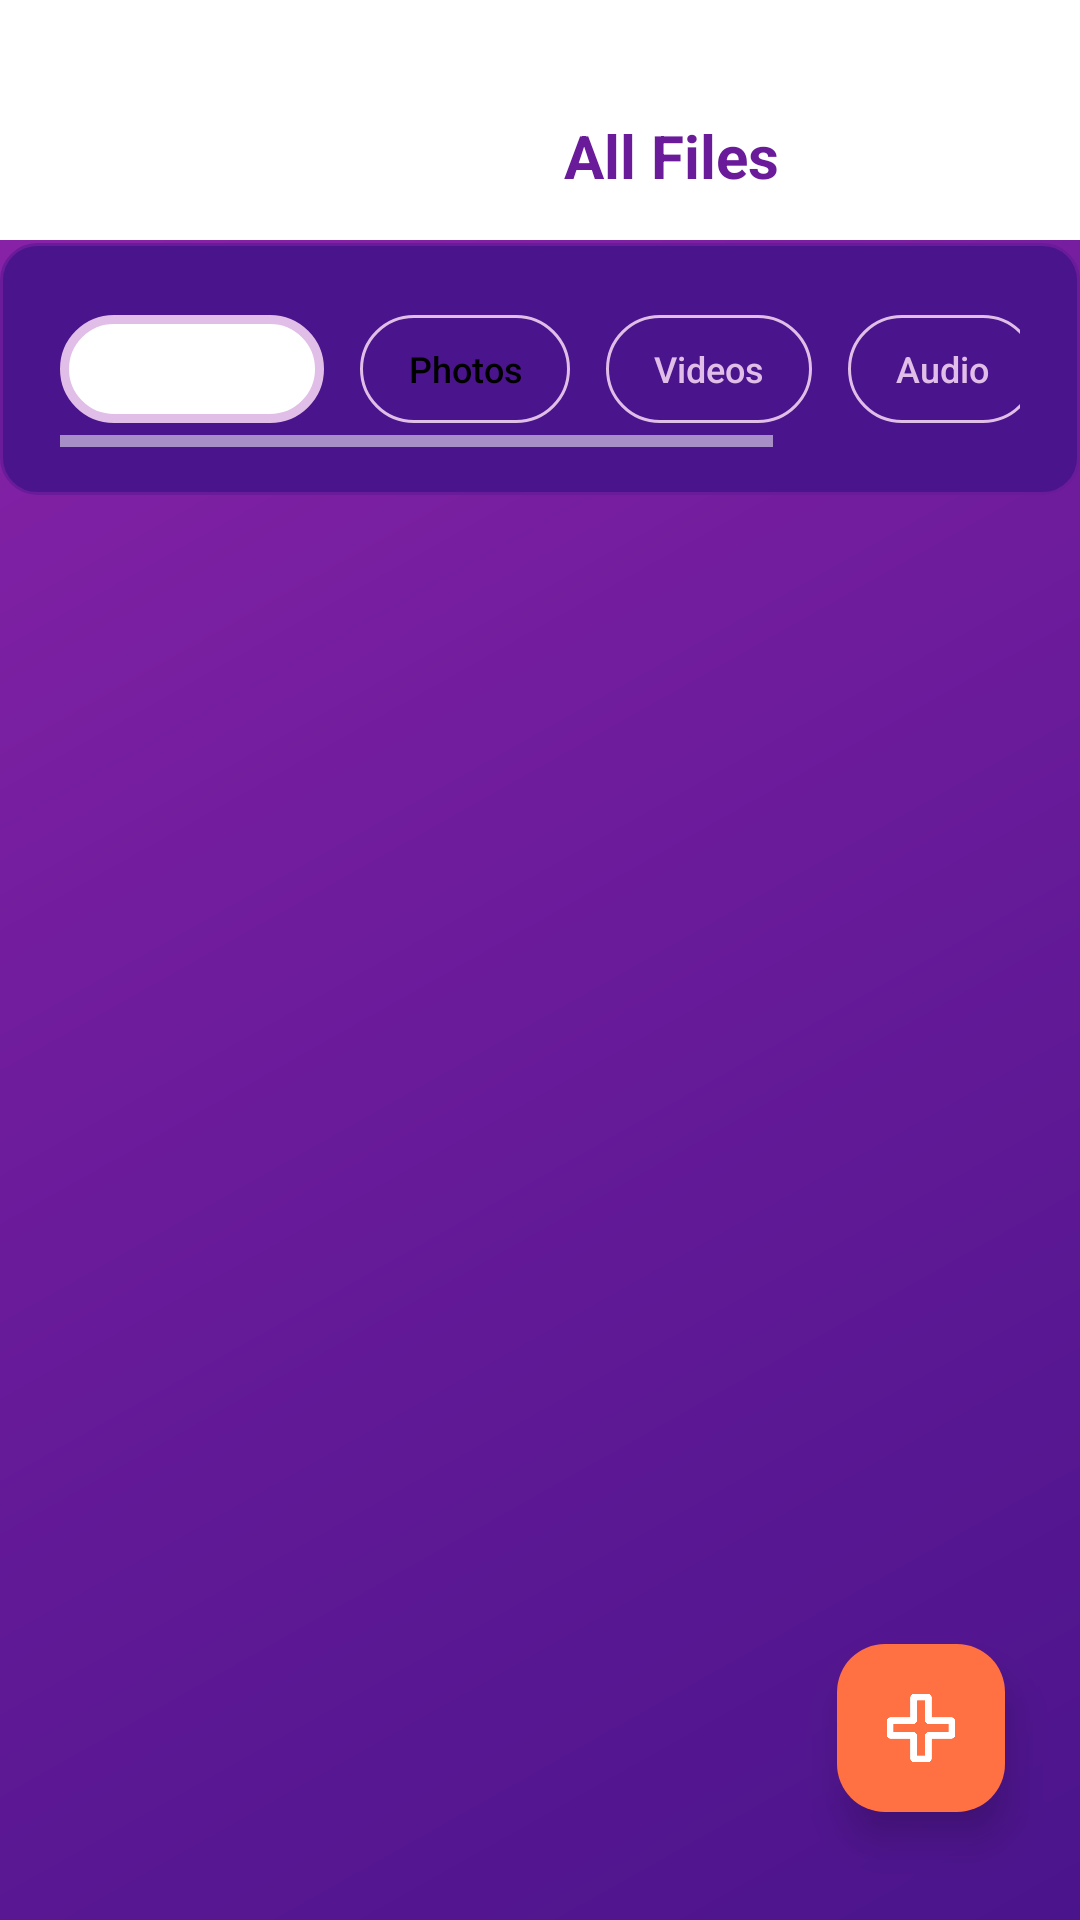

Screen size 1080*1920. Icon name, then its box in pixels as bbox=(x1, y1, x2, y2):
Add Files: bbox=(837, 1644, 1005, 1812)
